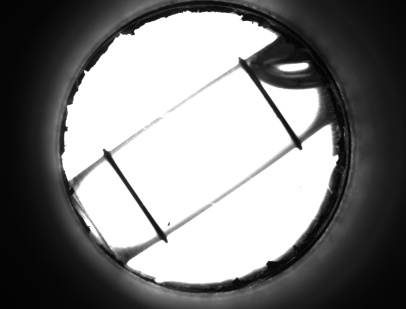line: (111, 175, 161, 221), (258, 98, 298, 130)
